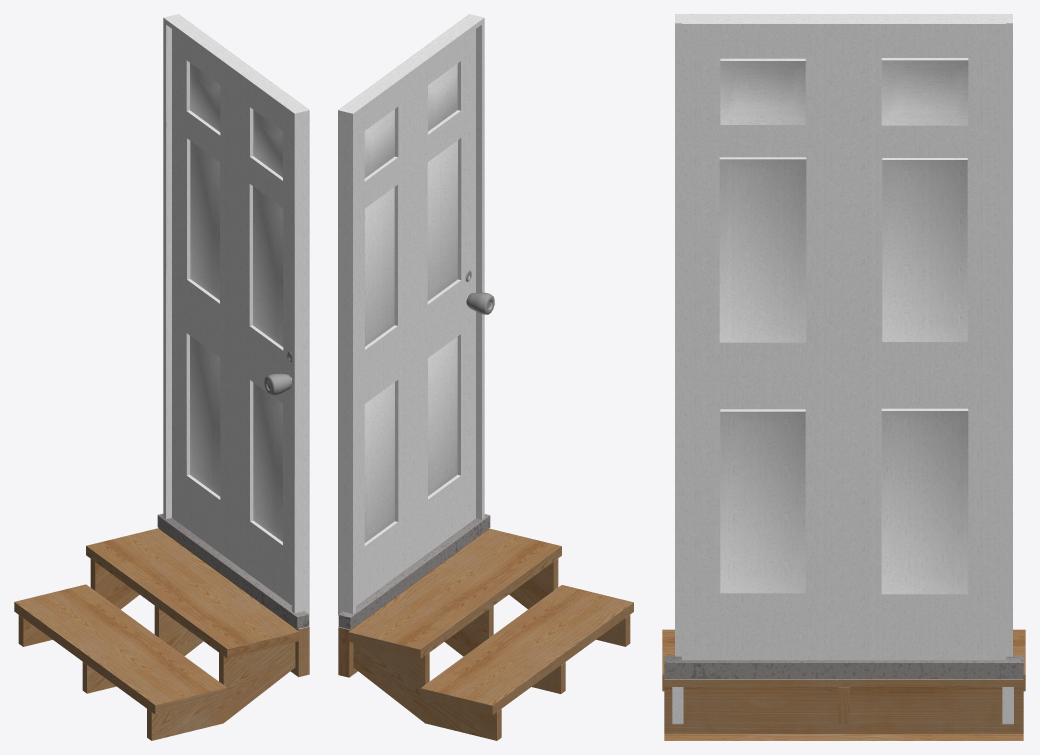
The model's file is door.fbx.
3 renders of one model, left to right at view 1: azimuth 30°, elevation 25°; view 2: azimuth 150°, elevation 25°; view 3: azimuth 270°, elevation 25°, orthographic. The views are drawn at different scales.
Parts seen in each view (by area): view 1: Cube.006; view 2: Cube.006; view 3: Cube.006.
Boxes of the visible parts, x1,y1,x2,y2 form: Cube.006: (14,14,309,740); Cube.006: (338,14,633,740); Cube.006: (662,14,1025,740).
Bounding box in the file's own units: 65.35 × 232 × 100.
Materials: 1 (1 with a texture image).
